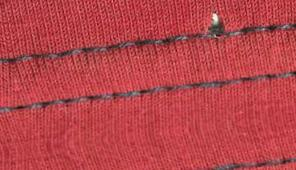hole: (207, 8, 230, 31)
